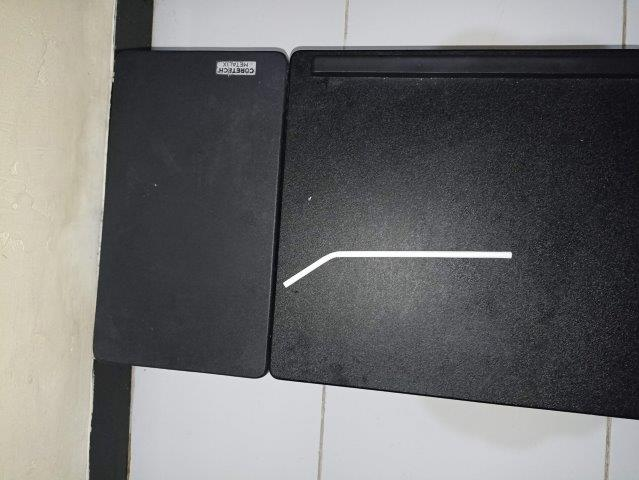sedotan: (283, 251, 512, 287)
